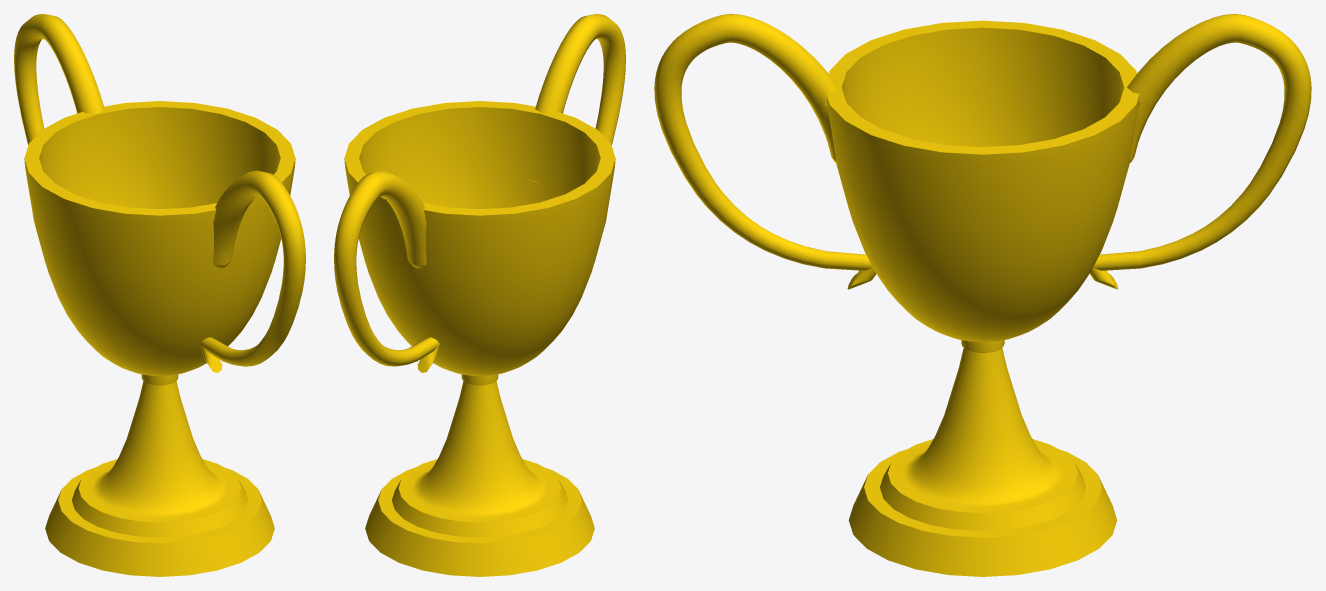
File: WinnerCup.obj
The picture shows the model from 3 angles, left to right: view 1: azimuth 30°, elevation 25°; view 2: azimuth 150°, elevation 25°; view 3: azimuth 270°, elevation 25°; orthographic projection. The views are drawn at different scales.
Visible parts, largest first — view 1: Base, Handle, Handle_1; view 2: Base, Handle_1, Handle; view 3: Base, Handle, Handle_1.
Boxes of the visible parts, bbox=[...] form: Base: bbox=[24, 101, 295, 576]; Handle: bbox=[200, 170, 305, 372]; Handle_1: bbox=[14, 14, 110, 182]; Base: bbox=[344, 101, 615, 576]; Handle_1: bbox=[334, 170, 439, 372]; Handle: bbox=[529, 14, 625, 182]; Base: bbox=[826, 20, 1139, 576]; Handle: bbox=[654, 14, 876, 289]; Handle_1: bbox=[1089, 14, 1311, 289].
Size of the model in its own units: 200 by 352 by 414.
